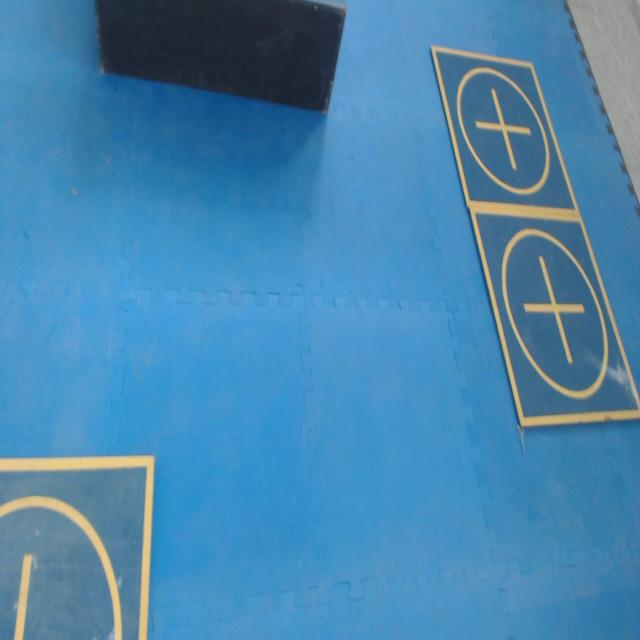base_pouso: (463, 207, 640, 431), (0, 455, 157, 639), (431, 43, 579, 214)
